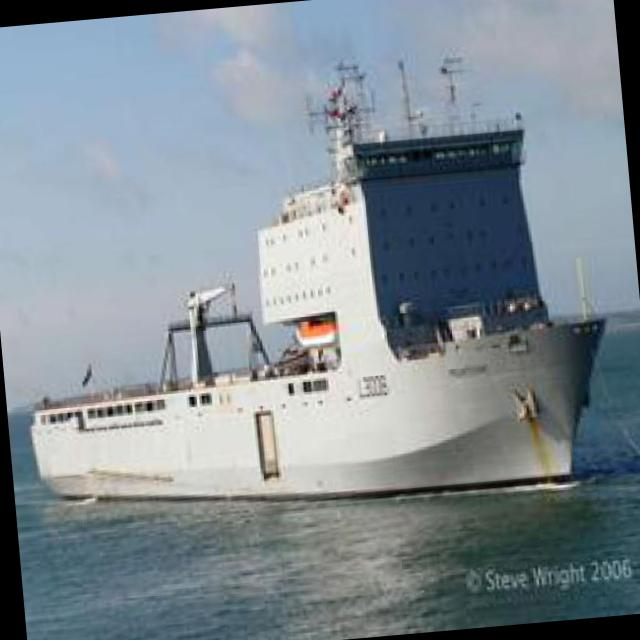boat: (4, 307, 618, 540)
